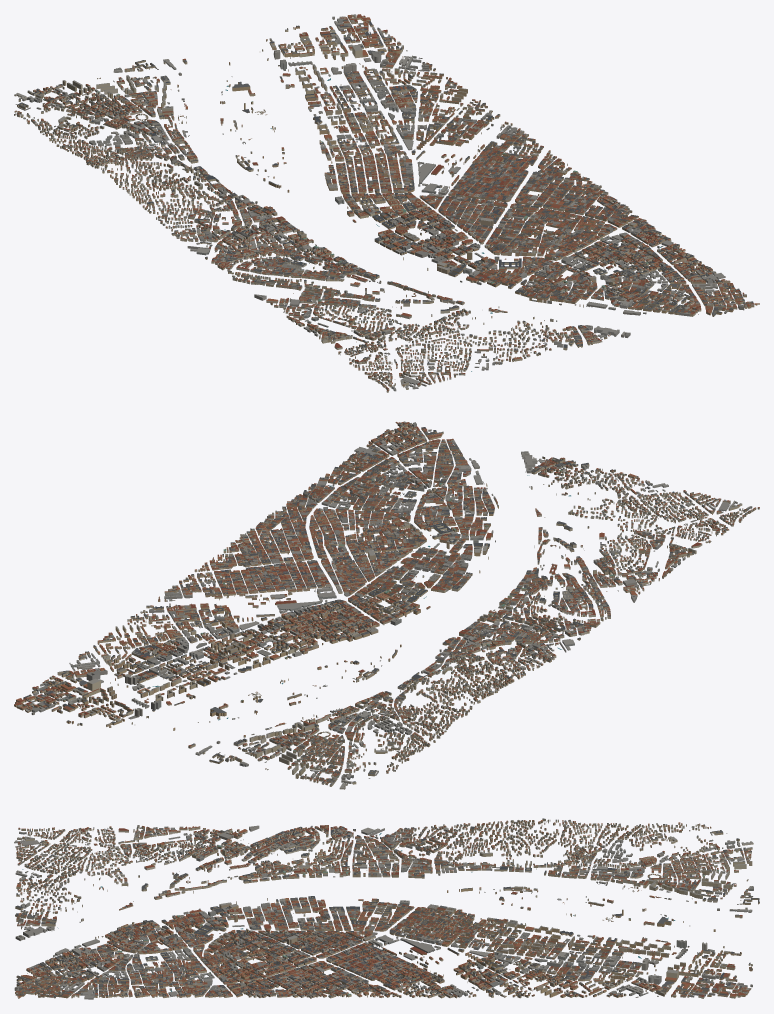
Rendered from city.glb.
3 renders of one model, top to bottom at view 1: azimuth 30°, elevation 25°; view 2: azimuth 150°, elevation 25°; view 3: azimuth 270°, elevation 25°, orthographic. The views are drawn at different scales.
Visible parts, largest first — view 1: buildings XIII. kerület, buildings II. kerület, buildings I. kerület, buildings VI. kerület, buildings V. kerület, buildings III. kerület, buildings XI. kerület, buildings VII. kerület, buildings VIII. kerület, buildings IX. kerület, buildings other; view 2: buildings XIII. kerület, buildings VI. kerület, buildings II. kerület, buildings I. kerület, buildings V. kerület, buildings III. kerület, buildings VII. kerület, buildings XI. kerület, buildings VIII. kerület, buildings IX. kerület, buildings other; view 3: buildings XIII. kerület, buildings II. kerület, buildings VI. kerület, buildings I. kerület, buildings V. kerület, buildings III. kerület, buildings VII. kerület, buildings XI. kerület, buildings VIII. kerület, buildings IX. kerület, buildings other, buildings XII. kerület.
Boxes of the visible parts, bbox=[...] form: buildings XIII. kerület: bbox=[262, 14, 500, 194]; buildings II. kerület: bbox=[60, 140, 306, 259]; buildings I. kerület: bbox=[211, 237, 507, 347]; buildings VI. kerület: bbox=[416, 123, 571, 255]; buildings V. kerület: bbox=[335, 192, 597, 306]; buildings III. kerület: bbox=[14, 58, 189, 147]; buildings XI. kerület: bbox=[338, 309, 630, 392]; buildings VII. kerület: bbox=[501, 170, 638, 260]; buildings VIII. kerület: bbox=[561, 218, 730, 284]; buildings IX. kerület: bbox=[583, 280, 759, 316]; buildings other: bbox=[220, 62, 289, 192]; buildings XIII. kerület: bbox=[14, 599, 379, 727]; buildings VI. kerület: bbox=[164, 537, 426, 618]; buildings II. kerület: bbox=[355, 614, 580, 741]; buildings I. kerület: bbox=[488, 493, 675, 636]; buildings V. kerület: bbox=[348, 485, 498, 625]; buildings III. kerület: bbox=[188, 705, 435, 789]; buildings VII. kerület: bbox=[223, 506, 424, 553]; buildings XI. kerület: bbox=[521, 451, 759, 543]; buildings VIII. kerület: bbox=[286, 441, 426, 513]; buildings IX. kerület: bbox=[371, 421, 486, 487]; buildings other: bbox=[173, 644, 401, 730]; buildings XIII. kerület: bbox=[389, 904, 752, 998]; buildings II. kerület: bbox=[352, 818, 626, 878]; buildings VI. kerület: bbox=[230, 928, 478, 998]; buildings I. kerület: bbox=[87, 825, 353, 910]; buildings V. kerület: bbox=[98, 896, 414, 954]; buildings III. kerület: bbox=[590, 822, 759, 918]; buildings VII. kerület: bbox=[193, 931, 351, 998]; buildings XI. kerület: bbox=[14, 826, 115, 940]; buildings VIII. kerület: bbox=[71, 948, 232, 999]; buildings IX. kerület: bbox=[14, 937, 129, 998]; buildings other: bbox=[447, 886, 715, 931]; buildings XII. kerület: bbox=[118, 825, 200, 840].
Bounding box in the file's own units: 3687 × 150 × 6877.
